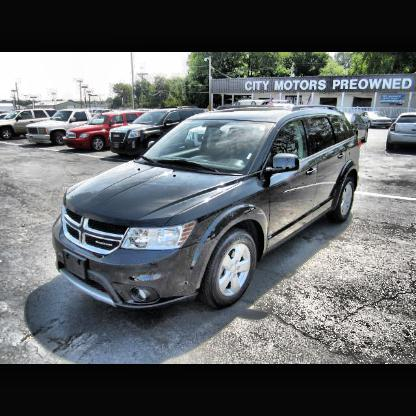Dodge Journey SUV 2012: (53, 110, 361, 314)
